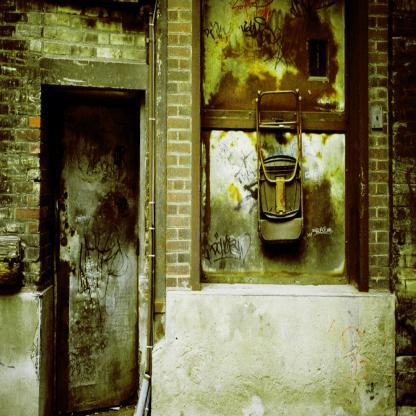door: (58, 106, 140, 407)
